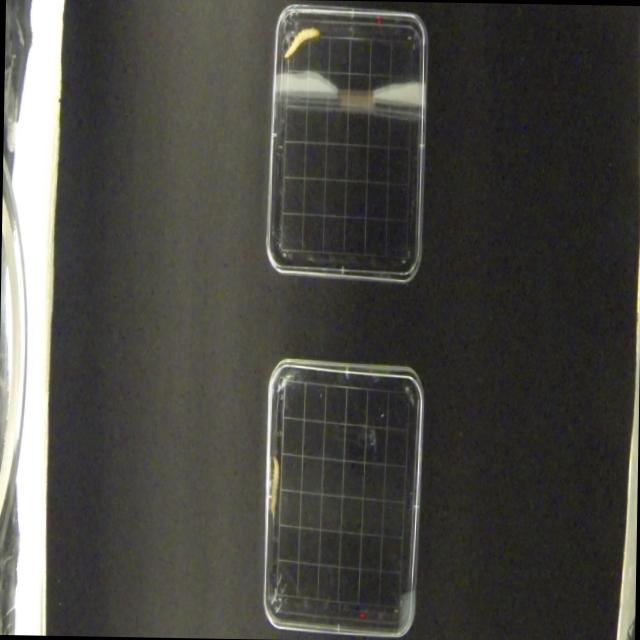larva: (282, 25, 320, 59), (268, 455, 281, 522)
